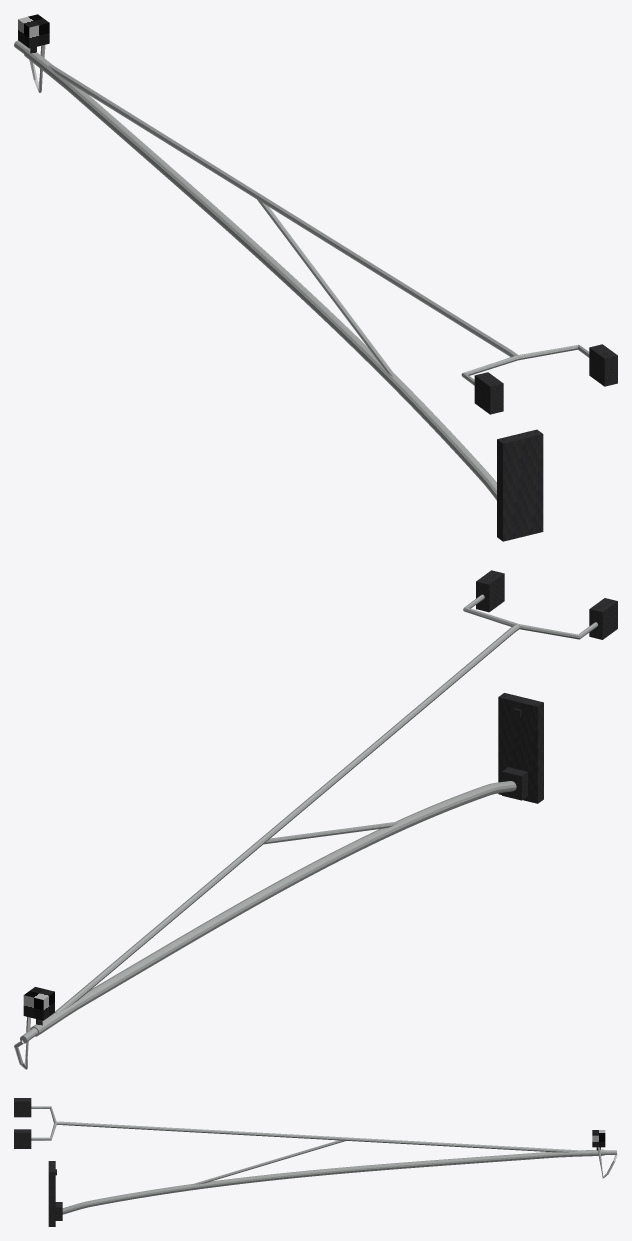
Rendered from arm_8_straight_wired.obj.
3 renders of one model, top to bottom at view 1: azimuth 30°, elevation 25°; view 2: azimuth 150°, elevation 25°; view 3: azimuth 270°, elevation 25°, orthographic. The views are drawn at different scales.
Visible parts, largest first — view 1: pole_light_mount_8_straight_wired; view 2: pole_light_mount_8_straight_wired; view 3: pole_light_mount_8_straight_wired.
Part boxes in pixels (x1,y1,x2,y2): pole_light_mount_8_straight_wired: (14,14,617,541); pole_light_mount_8_straight_wired: (14,570,617,1069); pole_light_mount_8_straight_wired: (14,1098,617,1226).
Size of the model in its own units: 1.19 by 1.68 by 8.7.
